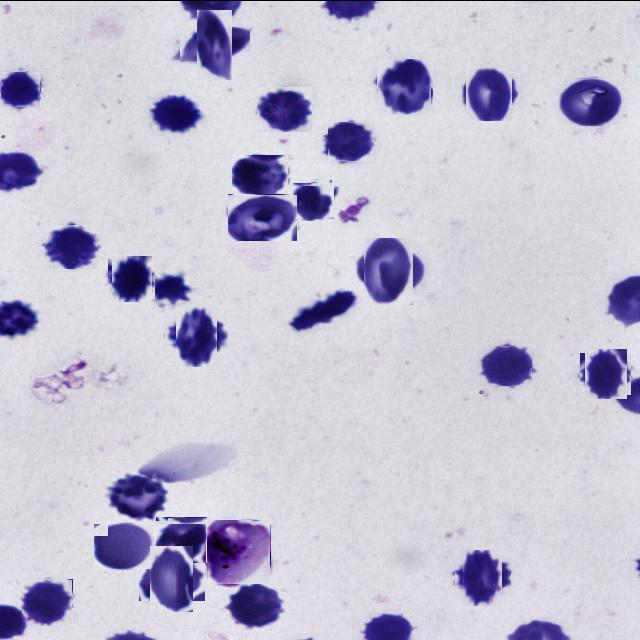difficult: (207, 518, 271, 583)
red blood cell: (359, 242, 418, 300), (228, 193, 298, 240), (557, 77, 623, 125), (144, 550, 200, 606), (378, 58, 432, 114), (188, 18, 242, 70), (94, 522, 154, 568), (170, 308, 222, 361), (110, 474, 168, 520), (463, 66, 514, 118), (257, 86, 312, 131), (227, 584, 282, 628), (22, 578, 73, 625), (232, 154, 288, 196), (156, 516, 207, 562), (45, 224, 98, 268), (459, 553, 507, 601), (582, 350, 629, 396), (151, 94, 201, 133), (110, 256, 153, 300), (486, 345, 532, 385), (328, 122, 374, 162), (294, 180, 333, 219), (1, 70, 41, 106), (153, 274, 188, 306)
